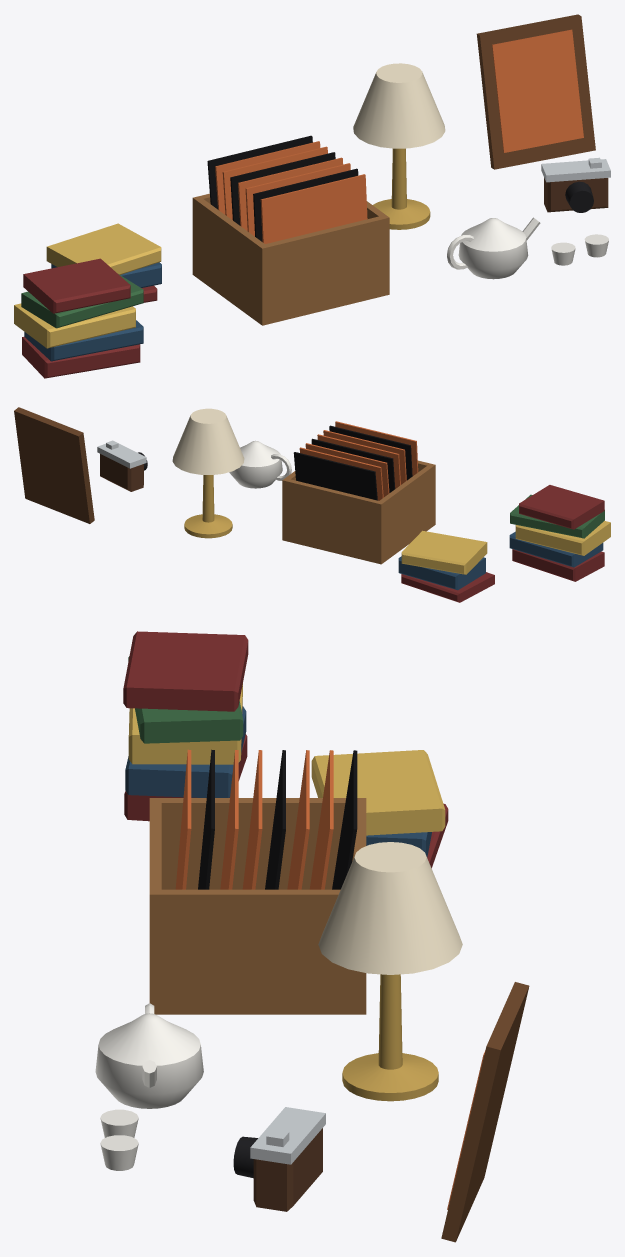
The model's file is goods-vintage.glb.
3 renders of one model, top to bottom at view 1: azimuth 30°, elevation 25°; view 2: azimuth 150°, elevation 25°; view 3: azimuth 270°, elevation 25°, orthographic. The views are drawn at different scales.
Visible parts, largest first — view 1: crate8, sleeve33, woodDark32, cream19, sleeve16, bookA4, bookC7, porcelain21, bookC2, bookA0, brass18, bookD3 (+12 smaller); view 2: crate8, woodDark32, cream19, bookC7, bookA4, vinyl9, porcelain21, bookC2, brass18, bookA0, bookB6, bookA5 (+11 smaller); view 3: crate8, cream19, bookA4, bookC7, porcelain21, woodDark32, brass18, bookD3, bookB1, leather27, bookC2, chrome28 (+11 smaller).
Part boxes in pixels (<box>): crate8: <box>192,193,389,325</box>; sleeve33: <box>492,29,583,152</box>; woodDark32: <box>476,14,595,169</box>; cream19: <box>353,63,445,148</box>; sleeve16: <box>260,174,367,243</box>; bookA4: <box>23,258,130,313</box>; bookC7: <box>46,223,161,274</box>; porcelain21: <box>458,218,528,279</box>; bookC2: <box>14,303,135,348</box>; bookA0: <box>22,337,140,378</box>; brass18: <box>373,148,430,229</box>; bookD3: <box>21,274,143,328</box>; crate8: <box>282,460,435,564</box>; woodDark32: <box>14,407,94,523</box>; cream19: <box>172,408,244,474</box>; bookC7: <box>401,530,487,574</box>; bookA4: <box>519,485,604,529</box>; vinyl9: <box>293,452,377,500</box>; porcelain21: <box>229,440,282,488</box>; bookC2: <box>515,521,610,555</box>; brass18: <box>184,475,232,538</box>; bookA0: <box>512,549,604,581</box>; bookB6: <box>398,556,485,590</box>; bookA5: <box>401,572,494,602</box>; crate8: <box>149,798,366,1014</box>; cream19: <box>318,842,462,974</box>; bookA4: <box>123,631,248,711</box>; bookC7: <box>311,750,445,835</box>; porcelain21: <box>95,1013,203,1108</box>; woodDark32: <box>441,982,529,1242</box>; brass18: <box>342,974,438,1101</box>; bookD3: <box>128,656,243,743</box>; bookB1: <box>125,706,246,797</box>; leather27: <box>253,1128,322,1211</box>; bookC2: <box>128,683,242,764</box>; chrome28: <box>250,1107,325,1164</box>.
Size of the model in its own units: 1.94 by 0.4176 by 0.7207.
